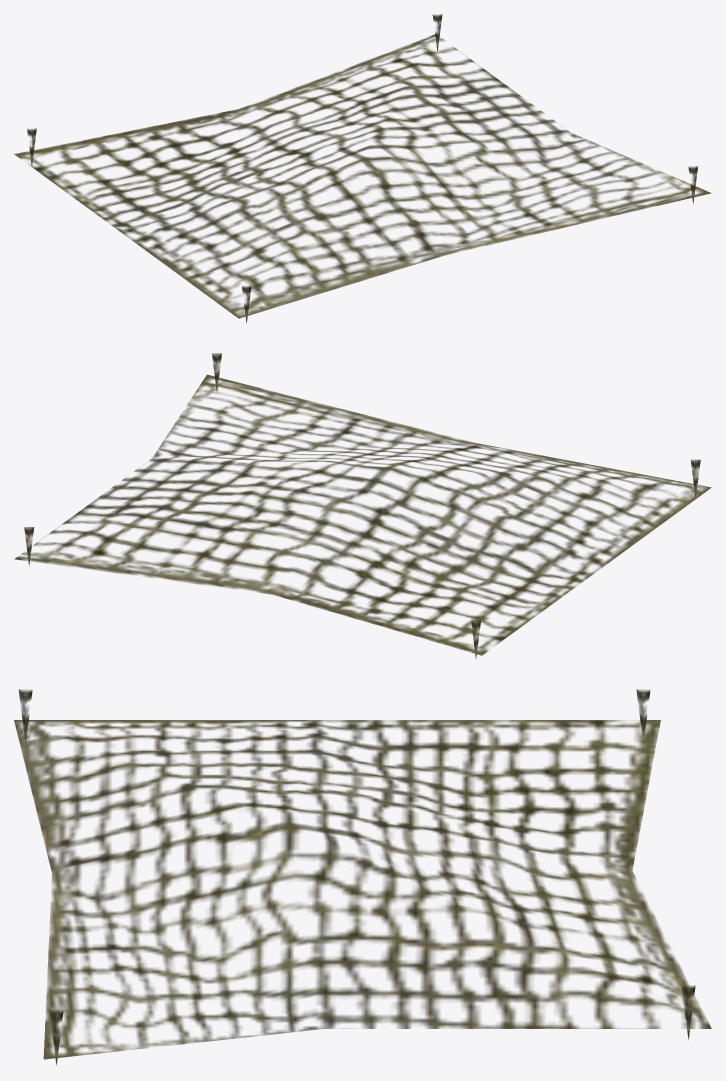
Rendered from Environment - Prop - Cargo Net 02 - PMCrgoNet.glb.
3 views of the same model, one above another, from view 1: azimuth 30°, elevation 25°; view 2: azimuth 150°, elevation 25°; view 3: azimuth 270°, elevation 25° (orthographic). The views are drawn at different scales.
Parts seen in each view (by area): view 1: PMCRGONET; view 2: PMCRGONET; view 3: PMCRGONET.
Boxes of the visible parts, x1,y1,x2,y2 form: PMCRGONET: (14,14,711,323); PMCRGONET: (14,353,711,659); PMCRGONET: (14,689,711,1065).
Size of the model in its own units: 21.55 by 2.02 by 18.73.
Materials: 1 (1 with a texture image).
